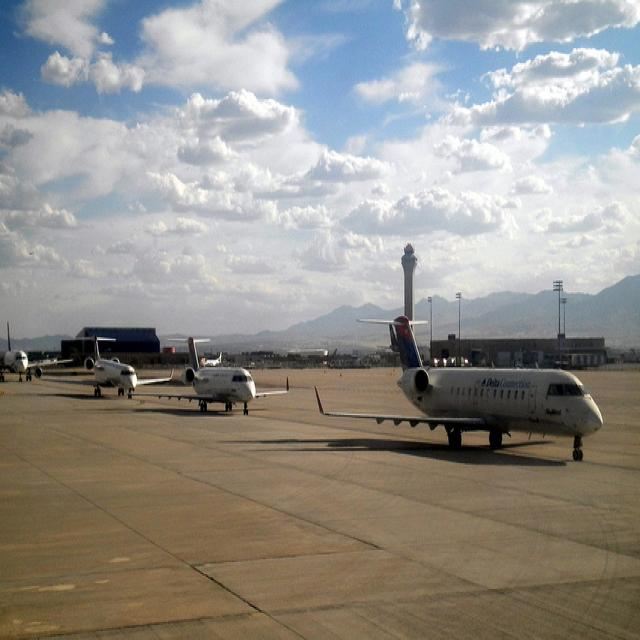airplane: (313, 314, 605, 464), (133, 336, 292, 416), (42, 334, 176, 399), (1, 317, 74, 385)
